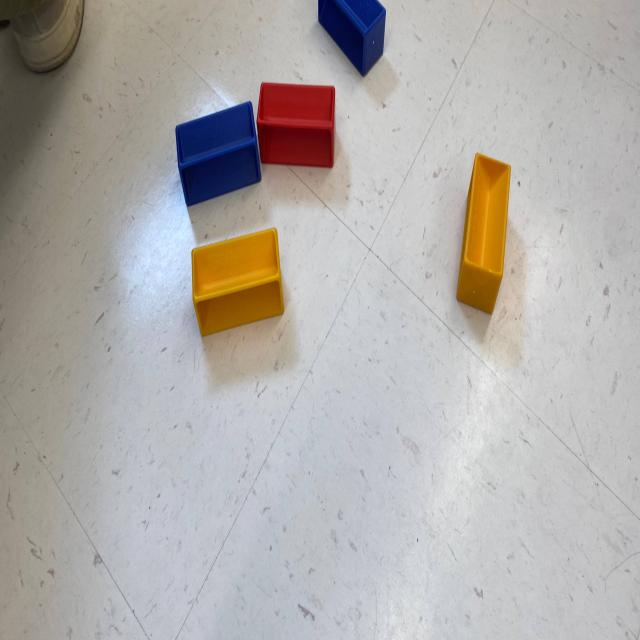blue-specimen: (175, 99, 262, 208), (318, 0, 386, 82)
red-specimen: (255, 83, 337, 167)
yellow-specimen: (190, 235, 285, 341), (455, 149, 512, 319)
